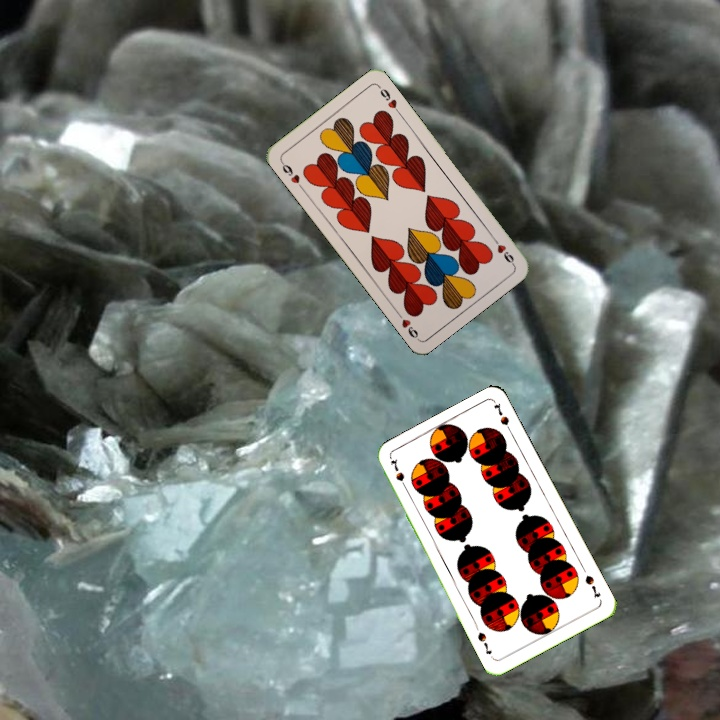H9: (277, 157, 306, 192), (488, 232, 517, 267)
S7: (386, 455, 411, 493), (581, 571, 603, 601)
